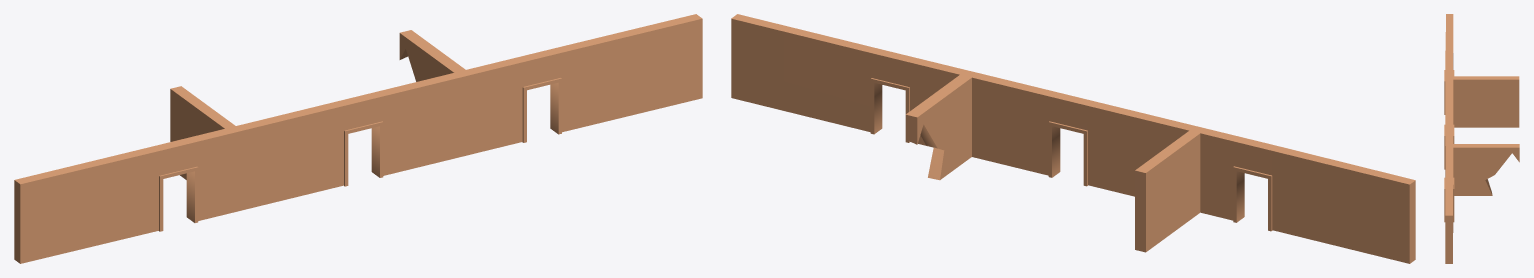
Rendered from ParedeQuartoDLow.fbx.
3 renders of one model, left to right at view 1: azimuth 30°, elevation 25°; view 2: azimuth 150°, elevation 25°; view 3: azimuth 270°, elevation 25°, orthographic. The views are drawn at different scales.
Parts seen in each view (by area): view 1: ParedeQuartoD.001; view 2: ParedeQuartoD.001; view 3: ParedeQuartoD.001.
Boxes of the visible parts, box(x1,y1,x2,y2) form: ParedeQuartoD.001: box(14, 14, 702, 263); ParedeQuartoD.001: box(731, 14, 1415, 263); ParedeQuartoD.001: box(1444, 14, 1519, 263).
Bounding box in the file's own units: 3554 × 399 × 560.
